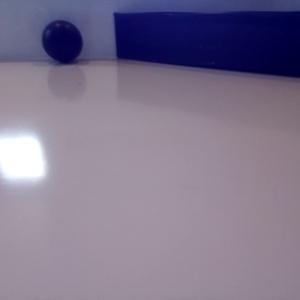zone: (114, 11, 300, 79)
